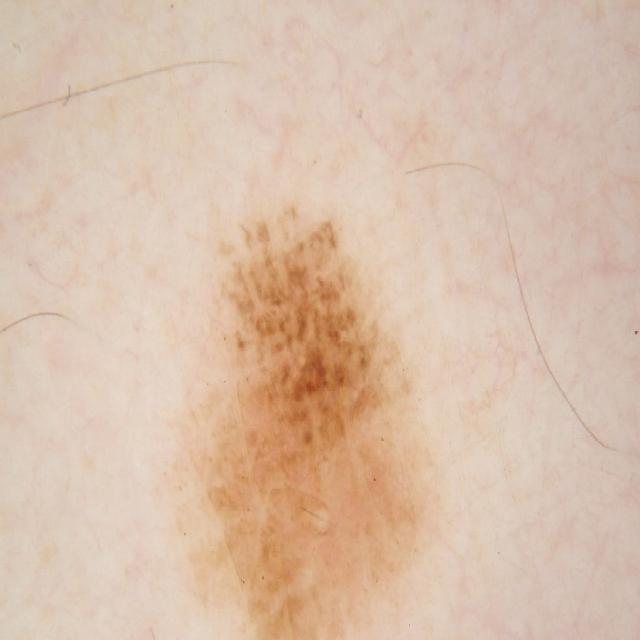Melanoma: (162, 171, 446, 640)
